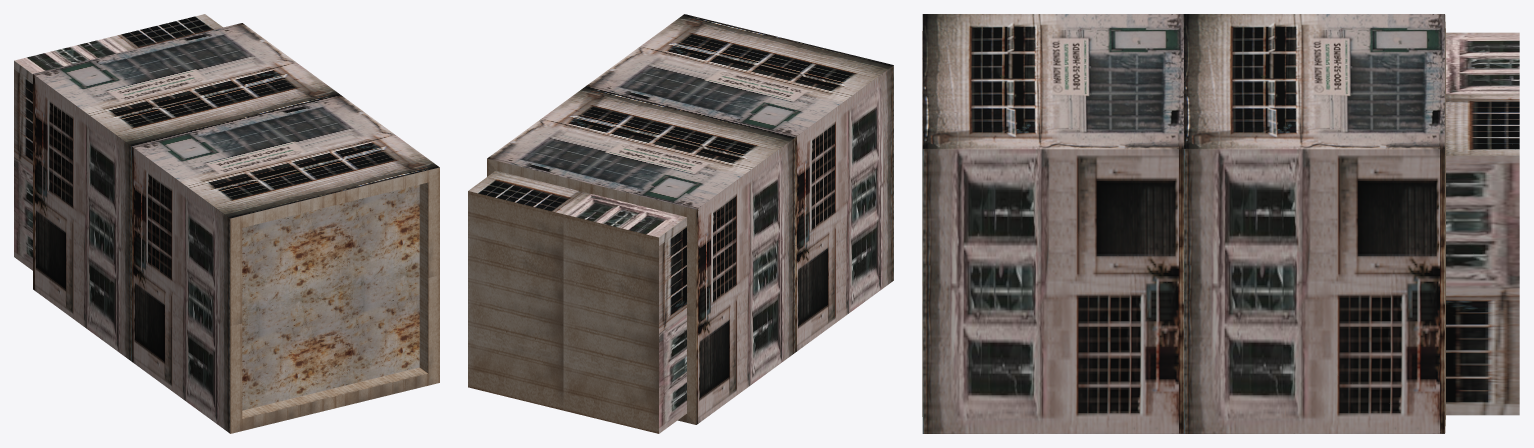
File: urbanoffice3Bb_wtf.obj
The picture shows the model from 3 angles, left to right: view 1: azimuth 30°, elevation 25°; view 2: azimuth 150°, elevation 25°; view 3: azimuth 270°, elevation 25°; orthographic projection. The views are drawn at different scales.
Parts seen in each view (by area): view 1: group5, group4, group3; view 2: group5, group3; view 3: group5, group3.
Part boxes in pixels (x1,y1,x2,y2): group5: [14, 14, 439, 433]; group4: [242, 184, 419, 410]; group3: [230, 167, 439, 433]; group5: [468, 14, 893, 433]; group3: [468, 158, 696, 433]; group5: [922, 14, 1519, 433]; group3: [922, 15, 1445, 432].
Bounding box in the file's own units: 354 × 347 × 660.
